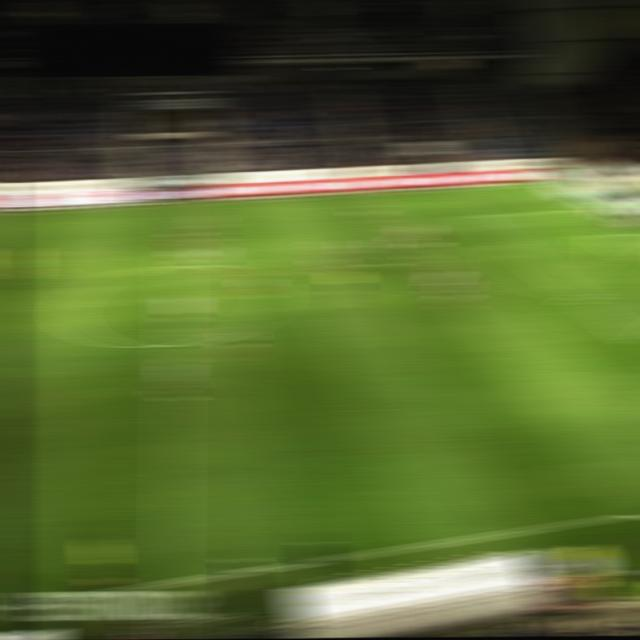bigarea_top_inner: (455, 209, 486, 225)
bigarea_top_outter: (573, 203, 602, 215)
bottom_arc_area_intersection: (566, 291, 597, 307)
corner: (524, 180, 553, 192)
halfcircle_bottom: (159, 339, 188, 351)
halfcircle_top: (159, 259, 190, 273)
midline_bottom_intersection: (154, 574, 186, 593)
midline_top_intersection: (160, 200, 190, 212)
smallarea_top_inner: (581, 231, 610, 243)
smallarea_top_outter: (622, 224, 640, 240)
top_arc_area_intersection: (495, 240, 529, 256)
